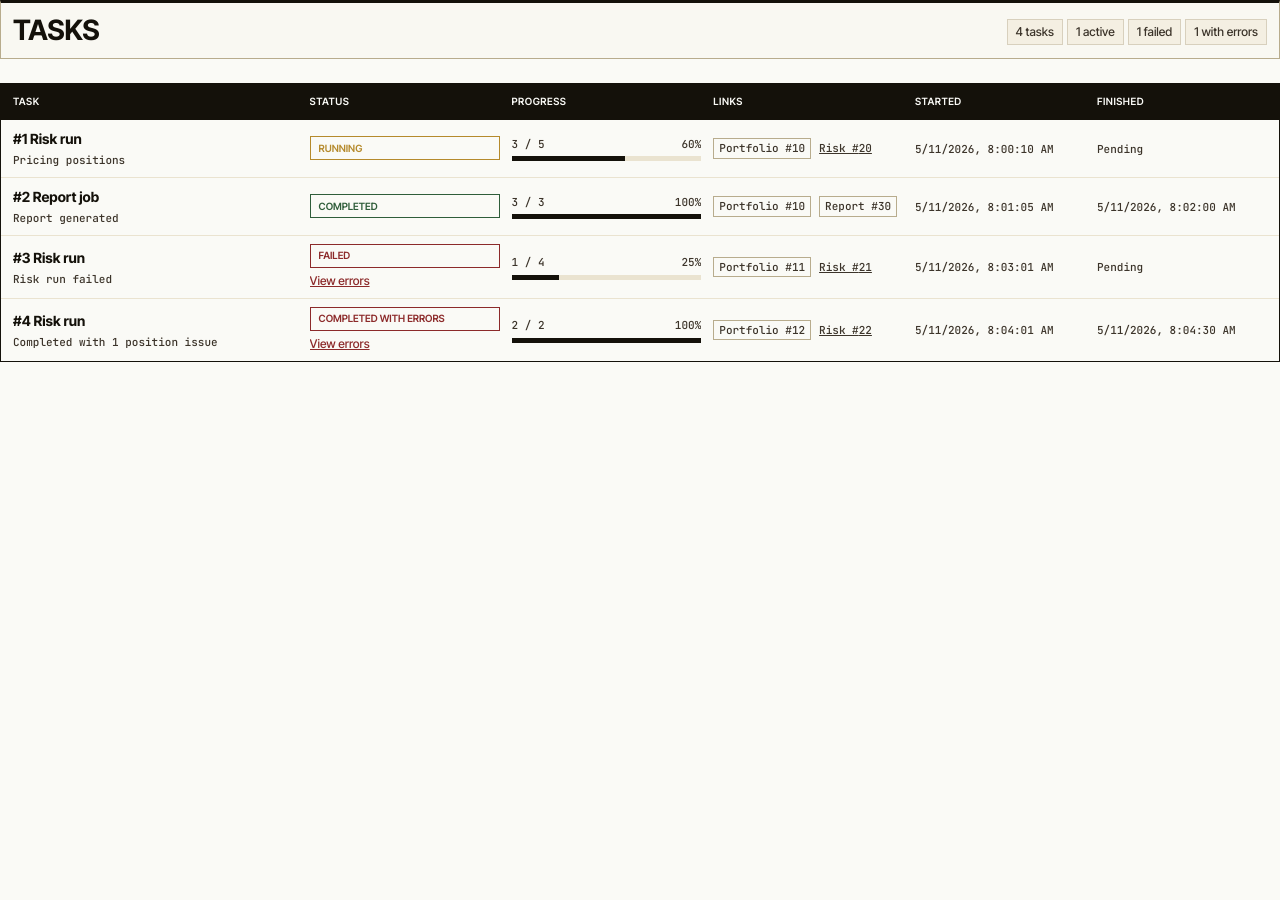
Tasks › opens a dialog with the exception text for a failed task
Click the button "View errors" in the row of "Risk run failed" at (340, 281), box left=310, top=272, right=370, bottom=290
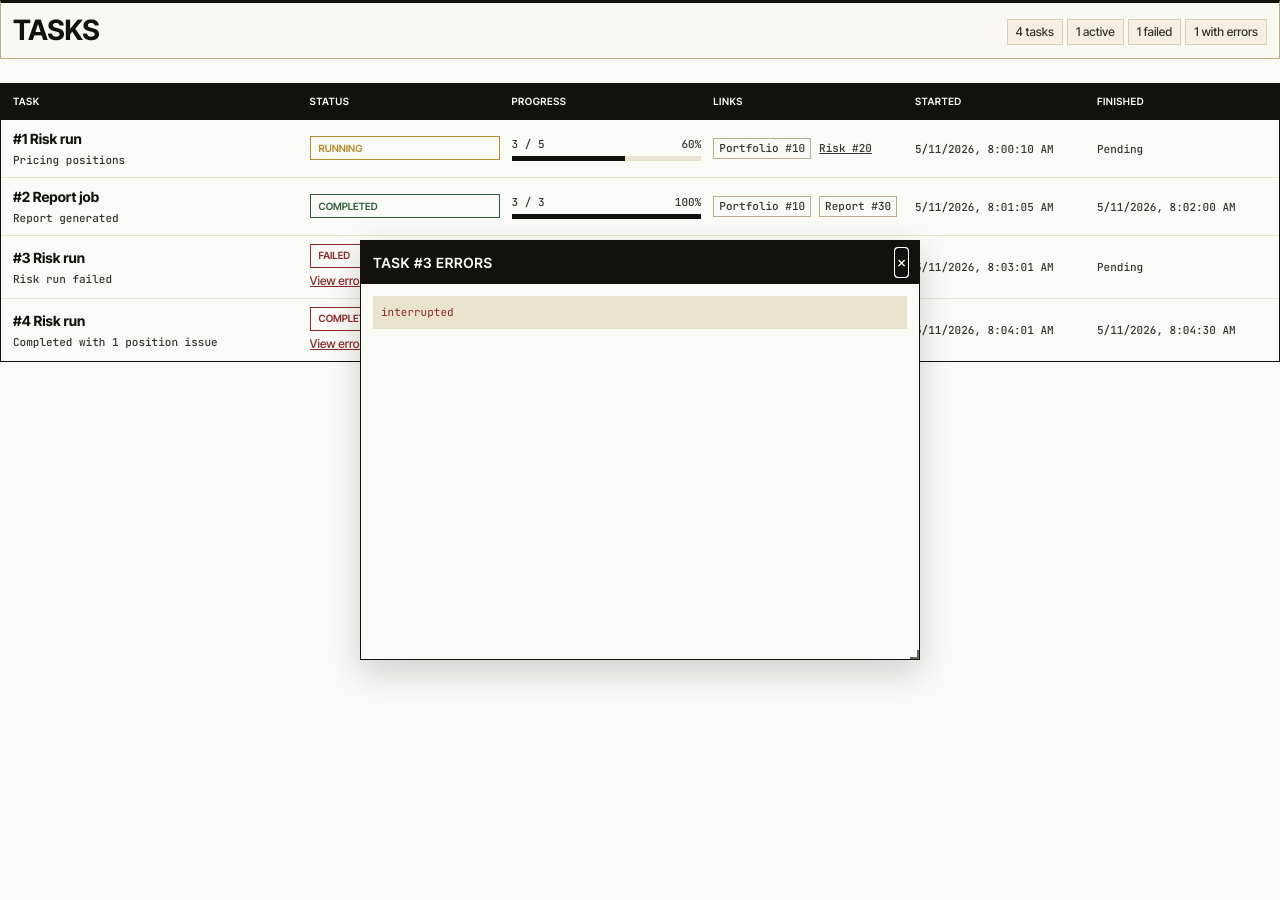
Expected: the text "interrupted" is shown, left=373, top=296, right=907, bottom=328
